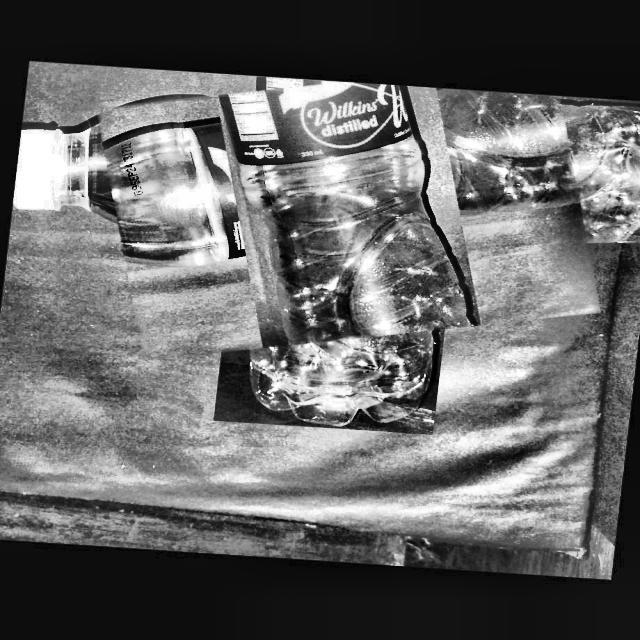Plastic-Bottle: (85, 66, 609, 371)
